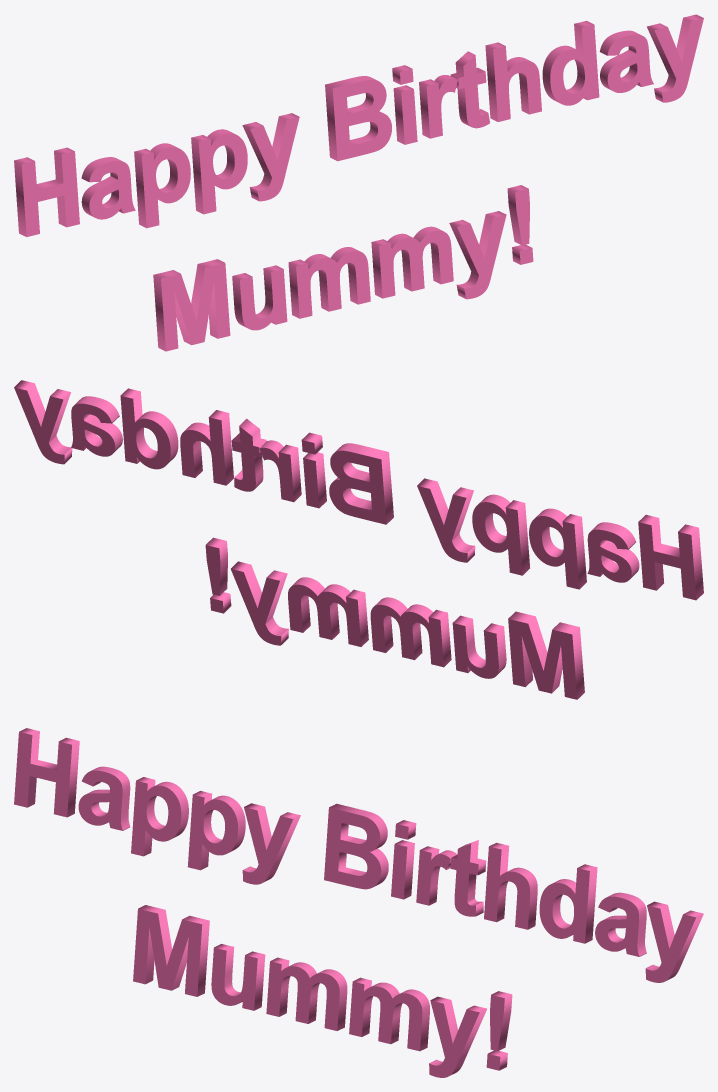
The model's file is 3D_Happy_birthday.obj.
The picture shows the model from 3 angles, top to bottom: view 1: azimuth 30°, elevation 25°; view 2: azimuth 150°, elevation 25°; view 3: azimuth 330°, elevation 25°; orthographic projection.
Visible parts, largest first — view 1: Text_Text.001; view 2: Text_Text.001; view 3: Text_Text.001.
Part boxes in pixels (<box>): Text_Text.001: <box>14,14,703,351</box>; Text_Text.001: <box>14,380,703,699</box>; Text_Text.001: <box>14,728,703,1077</box>.
Bounding box in the file's own units: 5.1 × 1.65 × 0.3115.
